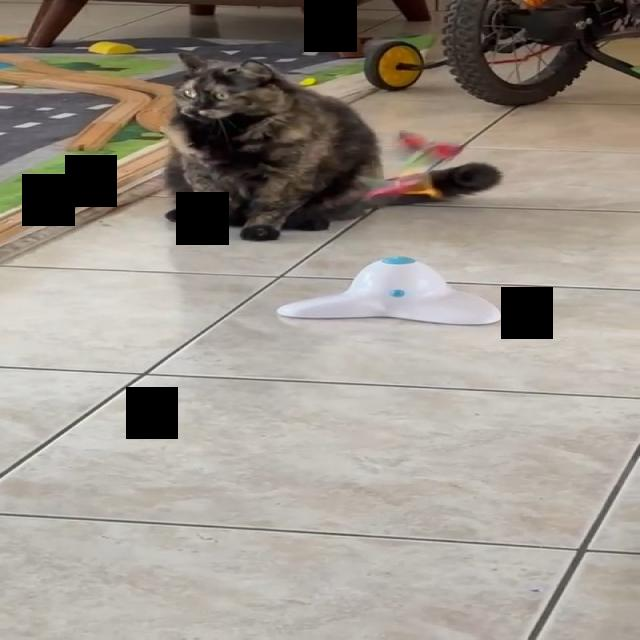authorized: (161, 52, 503, 242)
